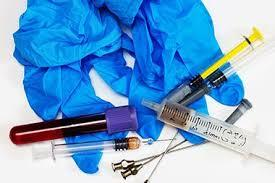Glove: (14, 0, 220, 138), (14, 0, 131, 119), (129, 0, 221, 138)
Syringe: (142, 100, 274, 161), (163, 27, 262, 101), (178, 41, 274, 104), (32, 137, 154, 159)
